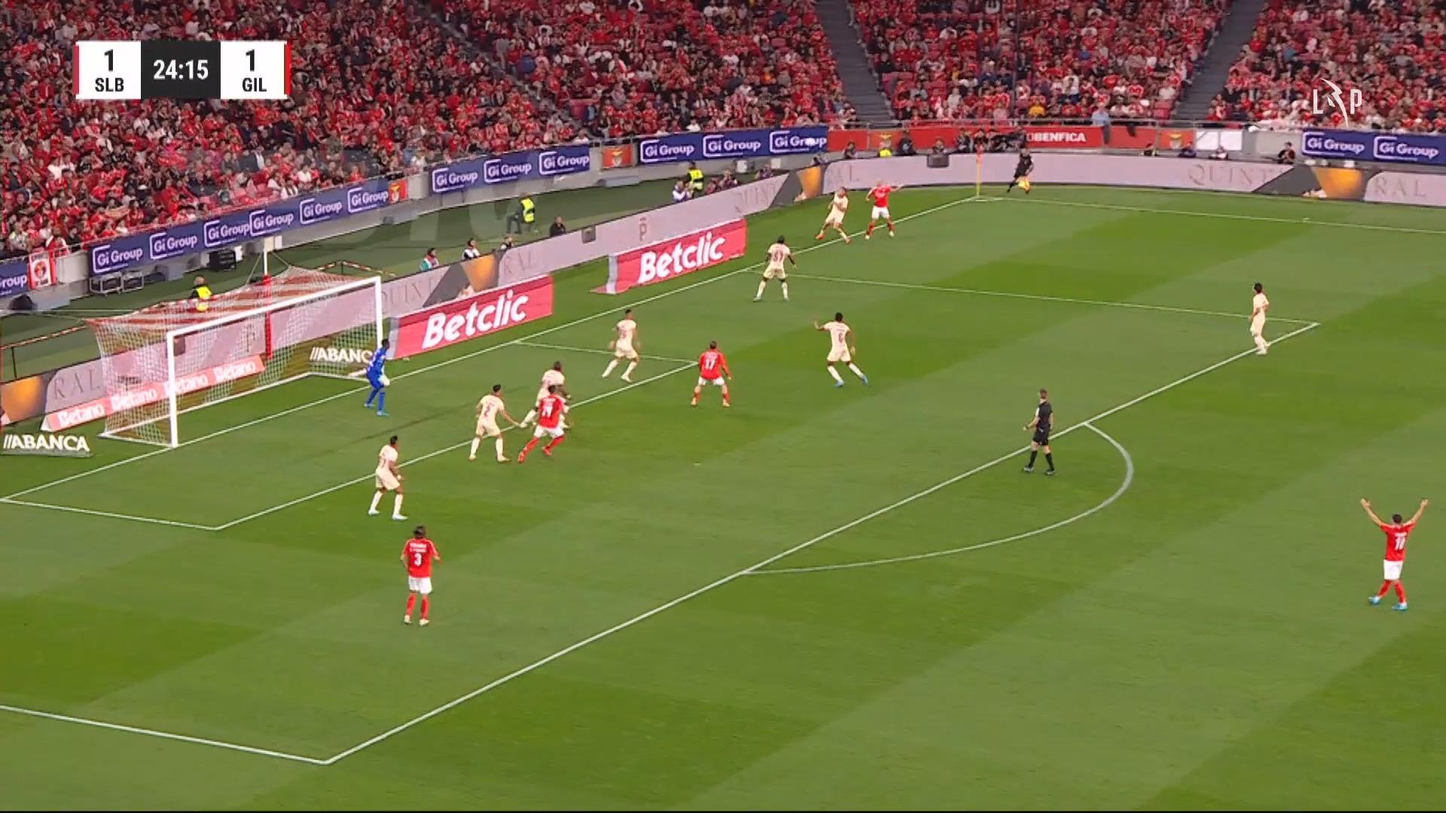goalkeeper: (362, 337, 391, 417)
player: (1359, 495, 1429, 611), (468, 382, 523, 463), (516, 383, 571, 463), (399, 524, 441, 626), (813, 311, 868, 388), (518, 359, 572, 430), (366, 434, 408, 521), (600, 307, 640, 383), (752, 235, 796, 303), (689, 340, 732, 408), (863, 178, 901, 239), (814, 186, 852, 244), (1248, 282, 1270, 355)
referee: (1020, 388, 1057, 475), (1005, 146, 1034, 194)
